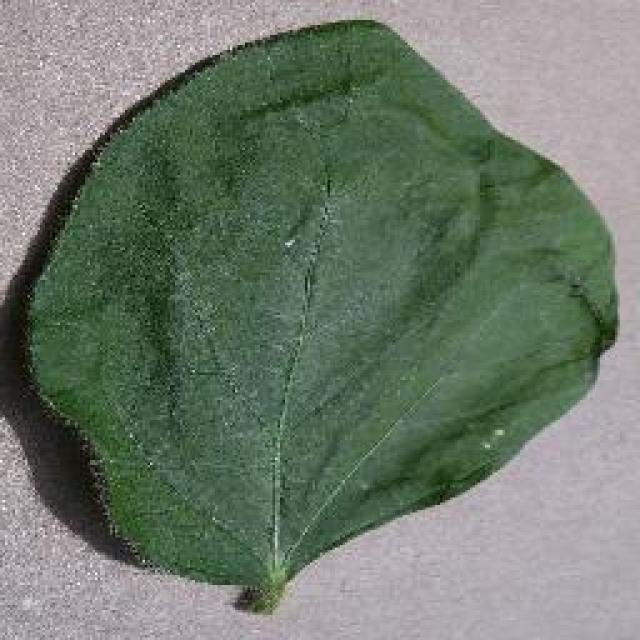Soy_healthy: (46, 32, 594, 528)
